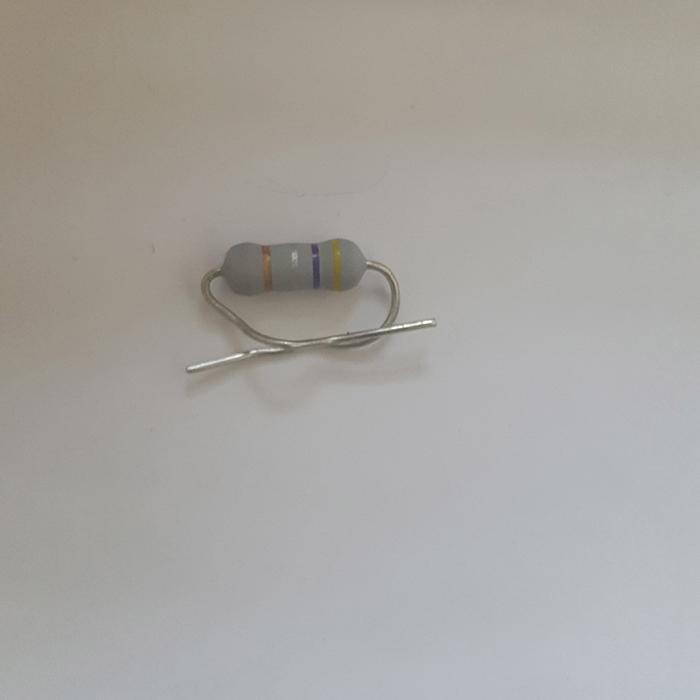resistor: (218, 236, 370, 296)
